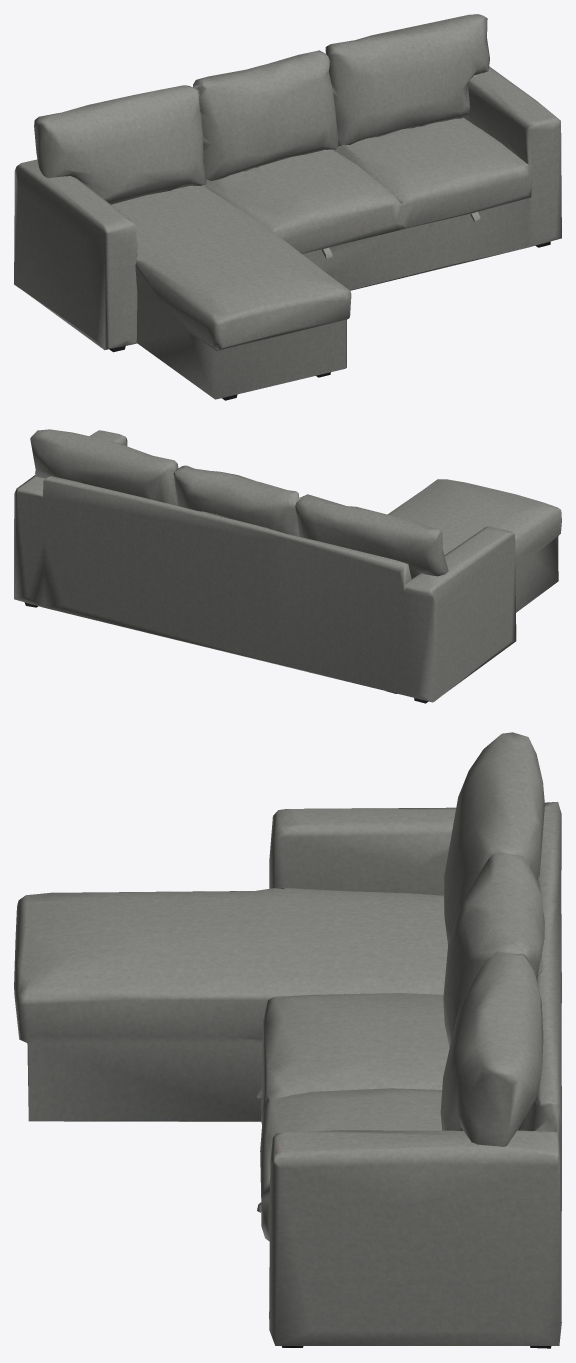
File: barslov_3_os_sofa_rozkadana_z_szezlongiem_80541594.glb
The picture shows the model from 3 angles, top to bottom: view 1: azimuth 30°, elevation 25°; view 2: azimuth 150°, elevation 25°; view 3: azimuth 270°, elevation 25°; orthographic projection. The views are drawn at different scales.
Parts seen in each view (by area): view 1: barslov_3_os_sofa_rozkadana_z_szezlongiem_80541594; view 2: barslov_3_os_sofa_rozkadana_z_szezlongiem_80541594; view 3: barslov_3_os_sofa_rozkadana_z_szezlongiem_80541594.
Boxes of the visible parts, x1,y1,x2,y2 form: barslov_3_os_sofa_rozkadana_z_szezlongiem_80541594: [14, 14, 561, 400]; barslov_3_os_sofa_rozkadana_z_szezlongiem_80541594: [14, 429, 561, 703]; barslov_3_os_sofa_rozkadana_z_szezlongiem_80541594: [14, 732, 561, 1348].
Size of the model in its own units: 2.36 by 0.8949 by 1.55.
1 material, 1 textured.
